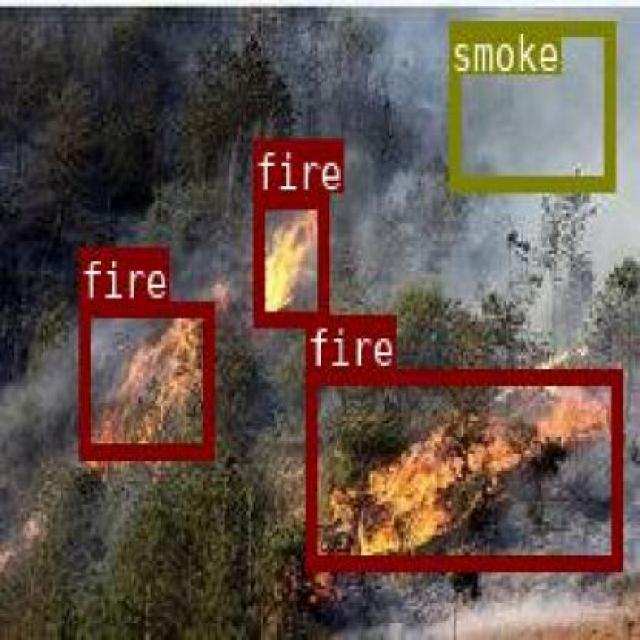fire: (306, 368, 620, 566), (76, 300, 212, 458), (252, 191, 326, 324)
smoke: (448, 18, 614, 188)
